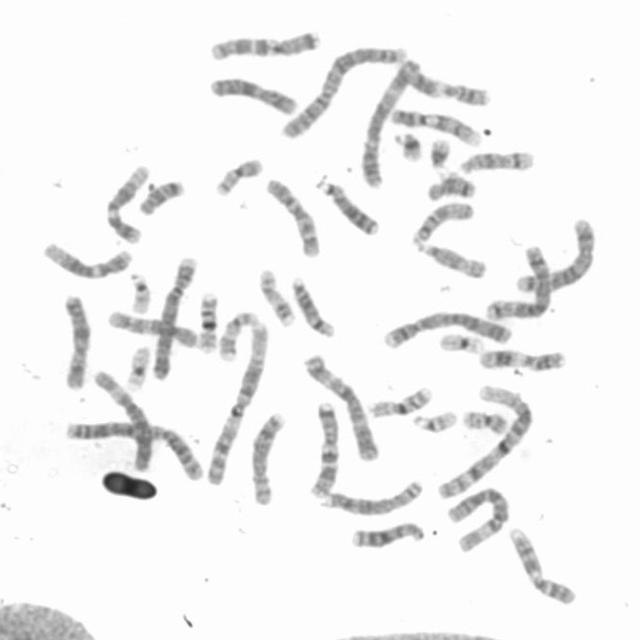A1: (437, 383, 535, 500), (204, 322, 270, 487)
A2: (279, 45, 409, 141), (64, 418, 206, 482)
A3: (357, 56, 424, 190), (303, 353, 380, 463)
B4: (150, 254, 197, 382), (381, 309, 513, 351)
B5: (514, 216, 596, 294), (484, 242, 552, 322)
C10: (262, 177, 322, 258), (106, 309, 199, 349)
C11: (408, 70, 491, 108), (475, 348, 570, 373)
C12: (103, 162, 152, 245), (41, 240, 134, 282)
C6: (90, 368, 156, 473), (444, 486, 510, 555)
C7: (208, 30, 322, 62), (308, 403, 338, 500)
C8: (322, 479, 422, 517), (248, 411, 286, 509)
C9: (506, 525, 578, 606), (388, 108, 482, 148)
D13: (315, 180, 383, 238), (348, 522, 428, 551)
D14: (288, 276, 336, 339), (459, 148, 535, 176)
D15: (412, 200, 476, 245), (415, 242, 488, 280)
E16: (368, 384, 434, 420), (196, 289, 218, 353)
E17: (255, 267, 295, 328), (219, 310, 259, 364)
E18: (139, 179, 185, 218), (425, 175, 475, 202)
F19: (438, 329, 489, 357), (123, 346, 152, 393)
F20: (212, 157, 264, 198), (460, 410, 510, 439)
G21: (390, 131, 425, 163), (428, 137, 452, 170)
G22: (412, 408, 459, 436), (126, 271, 154, 316)
X: (211, 78, 298, 117), (62, 296, 92, 390)
